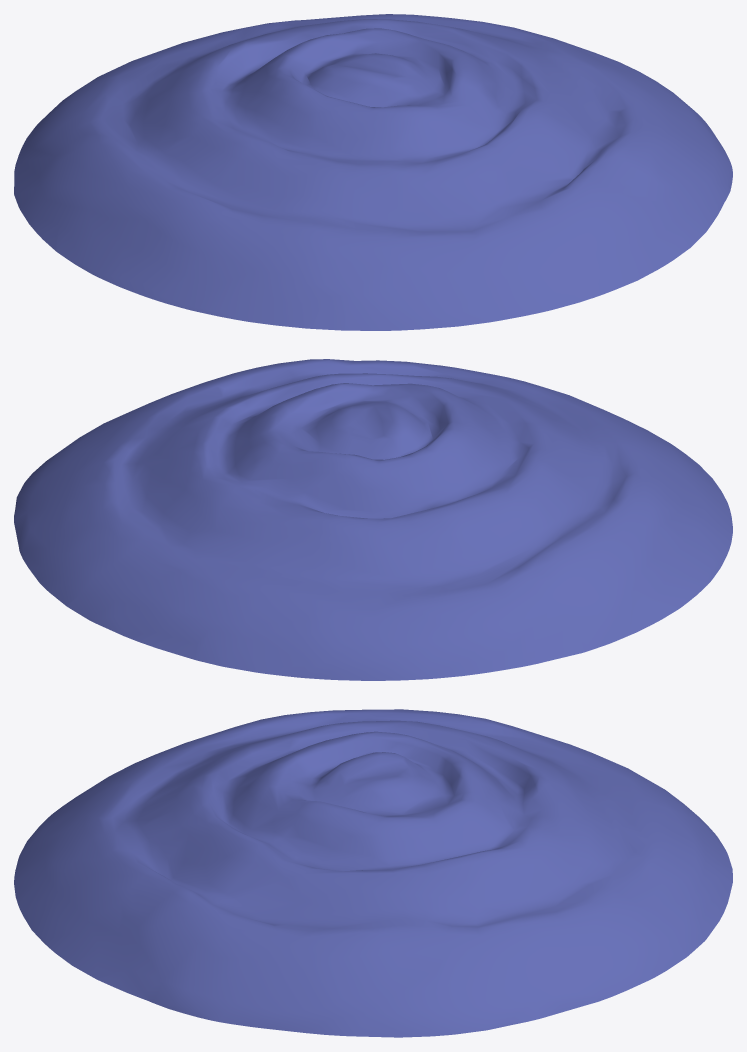
File: SM_water_noise_mesh.FBX
3 renders of one model, top to bottom at view 1: azimuth 30°, elevation 25°; view 2: azimuth 150°, elevation 25°; view 3: azimuth 270°, elevation 25°, orthographic.
Visible parts, largest first — view 1: SM_water_noise_mesh_LOD0; view 2: SM_water_noise_mesh_LOD0; view 3: SM_water_noise_mesh_LOD0.
Part boxes in pixels (x1,y1,x2,y2): SM_water_noise_mesh_LOD0: (14, 14, 732, 330); SM_water_noise_mesh_LOD0: (14, 359, 732, 680); SM_water_noise_mesh_LOD0: (14, 709, 732, 1037).
Size of what is drawn, in the model's own units: 1023 by 1013 by 181.
